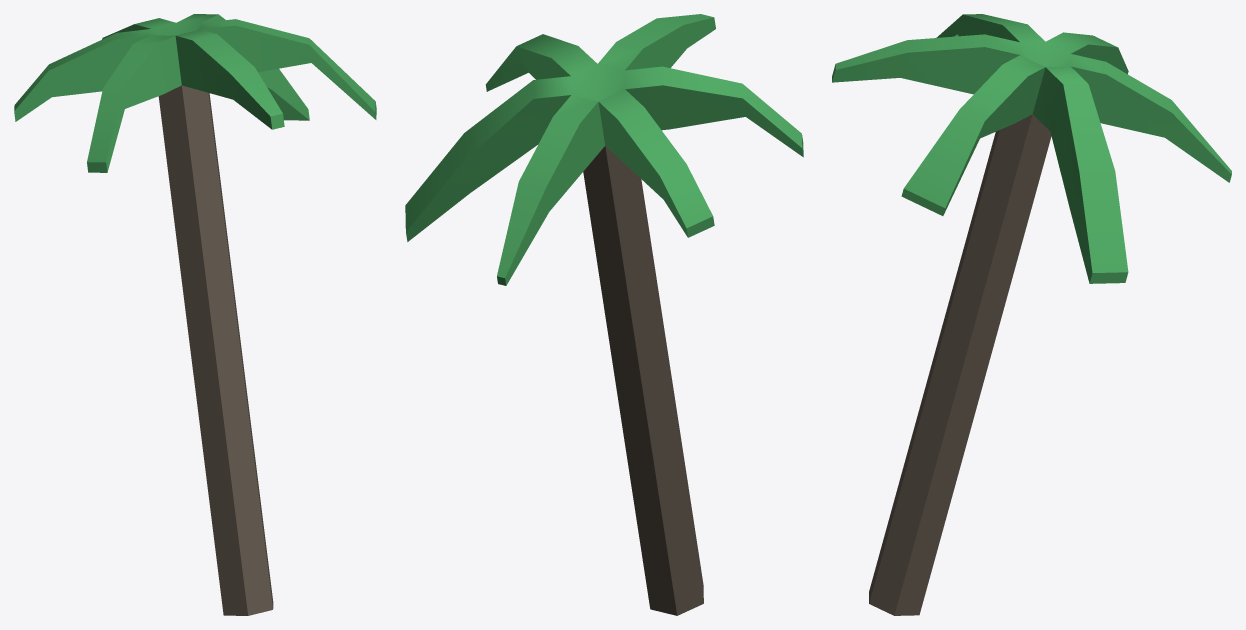
The model's file is palmtree.fbx.
3 renders of one model, left to right at view 1: azimuth 30°, elevation 25°; view 2: azimuth 150°, elevation 25°; view 3: azimuth 270°, elevation 25°, orthographic. The views are drawn at different scales.
Parts seen in each view (by area): view 1: pCylinder2; view 2: pCylinder2; view 3: pCylinder2.
Boxes of the visible parts, x1,y1,x2,y2 form: pCylinder2: (14,14,376,615); pCylinder2: (405,14,803,615); pCylinder2: (832,14,1231,615).
Bounding box in the file's own units: 1.18 × 2.09 × 1.33.
Materials: 1 (1 with a texture image).
